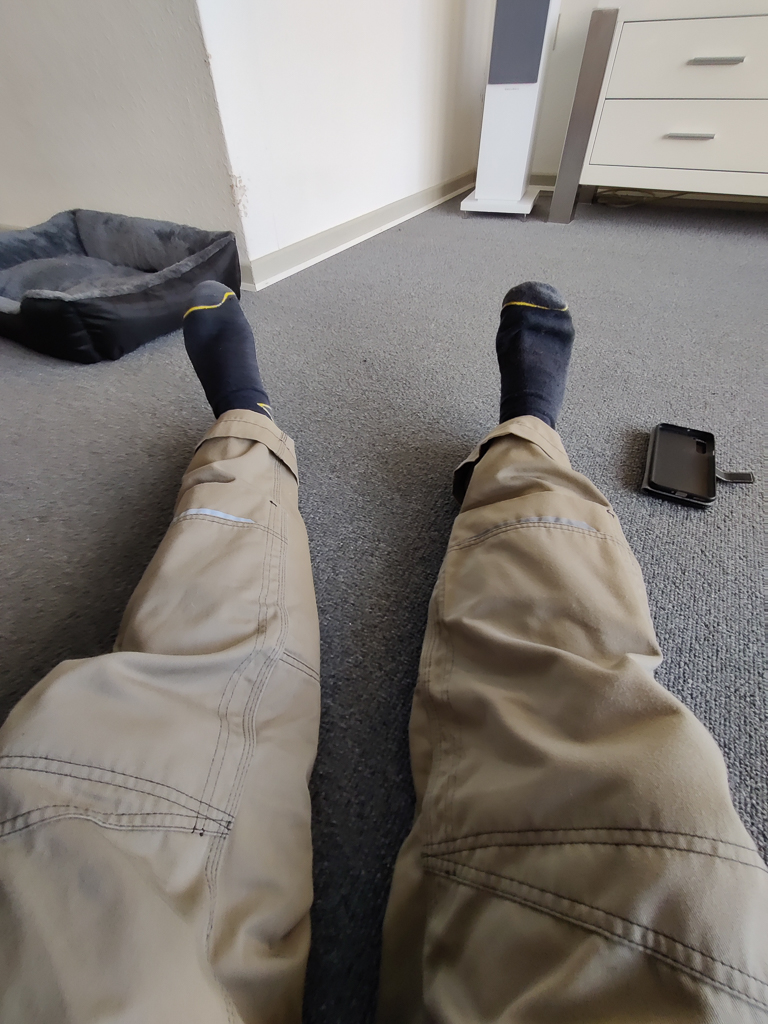Humanoid: (0, 263, 768, 1023)
